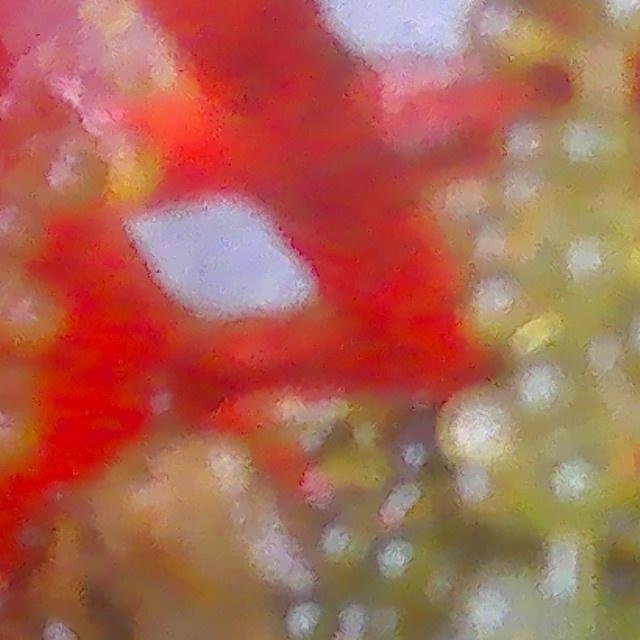SeaGrape: (444, 389, 527, 479), (555, 229, 628, 307), (563, 124, 636, 201), (476, 0, 553, 62), (504, 120, 571, 190), (460, 280, 527, 347), (466, 583, 541, 640), (440, 183, 496, 249), (497, 174, 560, 226), (471, 231, 536, 280)
